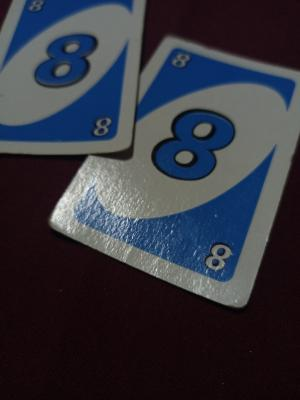blue: (160, 63, 249, 270), (18, 12, 123, 142)
num_8: (194, 235, 238, 279), (168, 45, 192, 72), (93, 116, 114, 135)
